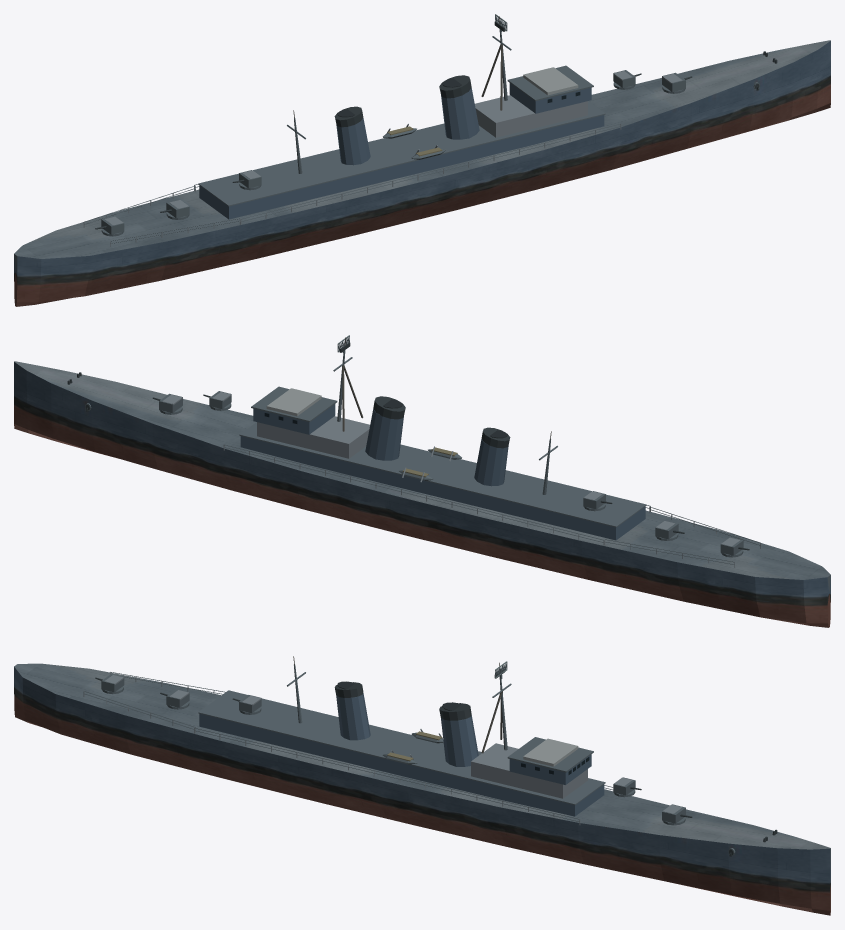
File: fletcher.glb
3 views of the same model, one above another, from view 1: azimuth 30°, elevation 25°; view 2: azimuth 150°, elevation 25°; view 3: azimuth 330°, elevation 25° (orthographic).
Parts seen in each view (by area): view 1: hullPaint, deckPaint, blue, deck, shade, steel, dark, light; view 2: hullPaint, deckPaint, blue, deck, shade, steel, dark, light; view 3: hullPaint, deckPaint, blue, deck, shade, steel, light, dark.
Boxes of the visible parts, x1,y1,x2,y2 form: hullPaint: (16,41,830,306); deckPaint: (14,40,830,258); blue: (14,83,604,275); deck: (14,101,605,270); shade: (84,15,685,243); steel: (83,71,682,246); dark: (95,19,777,229); light: (523,67,578,95); hullPaint: (14,362,828,627); deckPaint: (14,361,830,579); blue: (240,404,830,596); deck: (239,422,830,591); shade: (159,336,760,564); steel: (162,392,761,567); dark: (67,340,749,550); light: (266,388,321,416); hullPaint: (14,667,830,915); deckPaint: (14,663,830,849); blue: (199,693,830,882); deck: (198,690,830,869); shade: (84,662,685,825); steel: (83,672,682,824); light: (523,738,578,766); dark: (95,666,777,842).
Size of the model in its own units: 115 by 23.2 by 12.05.
Materials: 17 (2 with a texture image).
